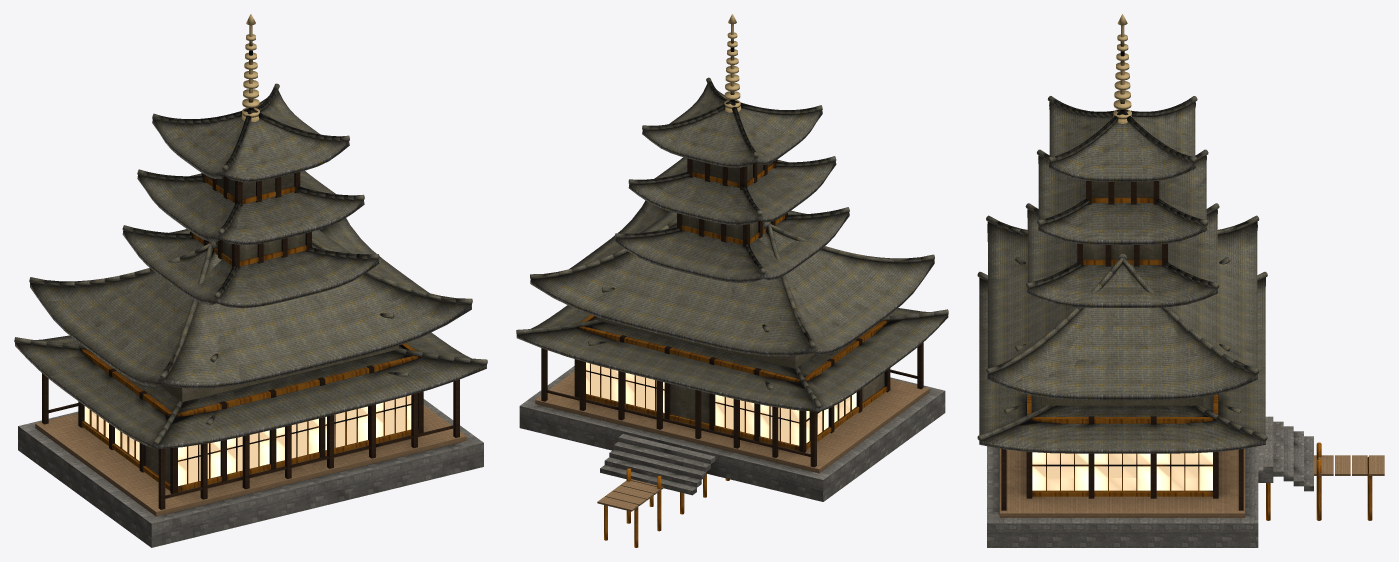
Rendered from buildings.glb.
3 views of the same model, side by side, from view 1: azimuth 30°, elevation 25°; view 2: azimuth 150°, elevation 25°; view 3: azimuth 270°, elevation 25° (orthographic). The views are drawn at different scales.
Visible parts, largest first — view 1: hall, pagoda; view 2: hall, pagoda, pier; view 3: hall, pagoda, pier.
Part boxes in pixels (left/top/right/bottom): hall: left=14, top=218, right=487, bottom=547; pagoda: left=122, top=14, right=408, bottom=427; hall: left=516, top=200, right=948, bottom=501; pagoda: left=588, top=14, right=849, bottom=392; pier: left=597, top=468, right=729, bottom=547; hall: left=977, top=215, right=1313, bottom=547; pagoda: left=1003, top=14, right=1273, bottom=482; pier: left=1266, top=442, right=1384, bottom=520.
Size of the model in its own units: 23.14 by 32.4 by 24.03.
11 materials, 6 textured.
